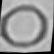no answer: (0, 3, 53, 54)
